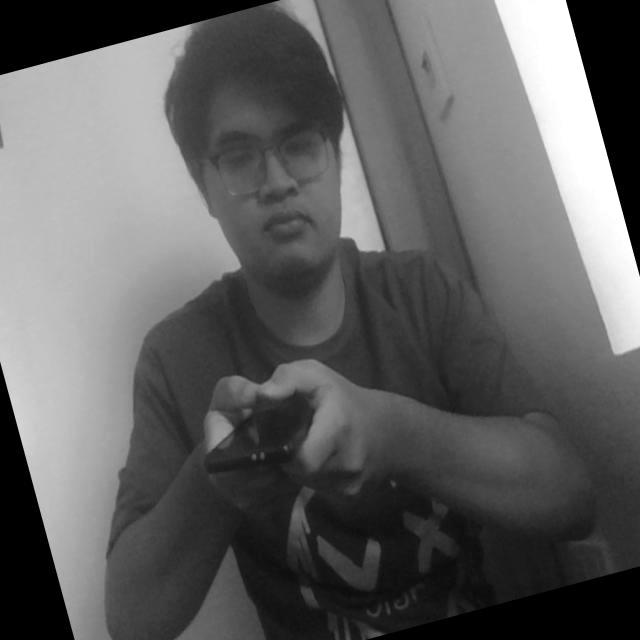phone: (165, 354, 344, 508)
